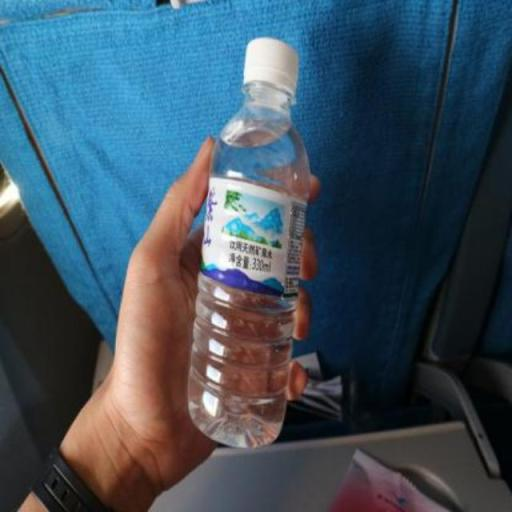Coca: (180, 28, 316, 454)
